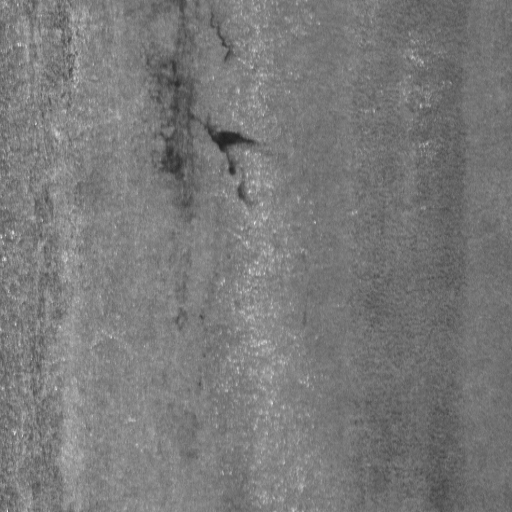zongxiangliewen: (190, 109, 259, 181), (207, 10, 235, 64)
